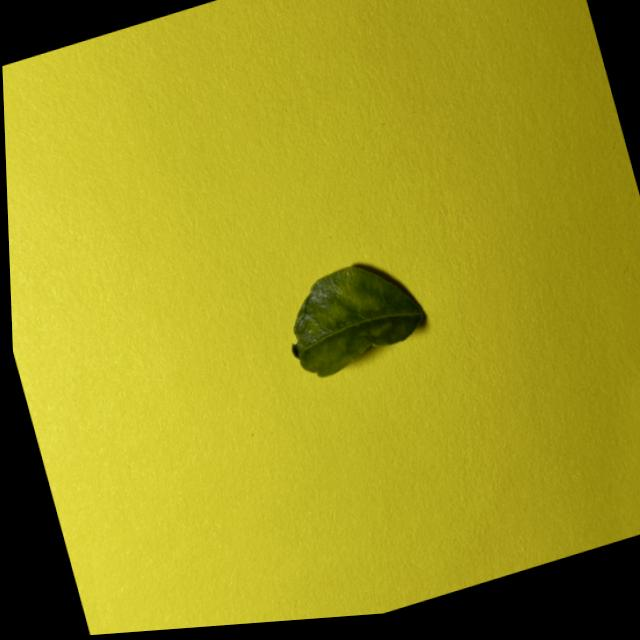greening: (291, 267, 421, 377)
